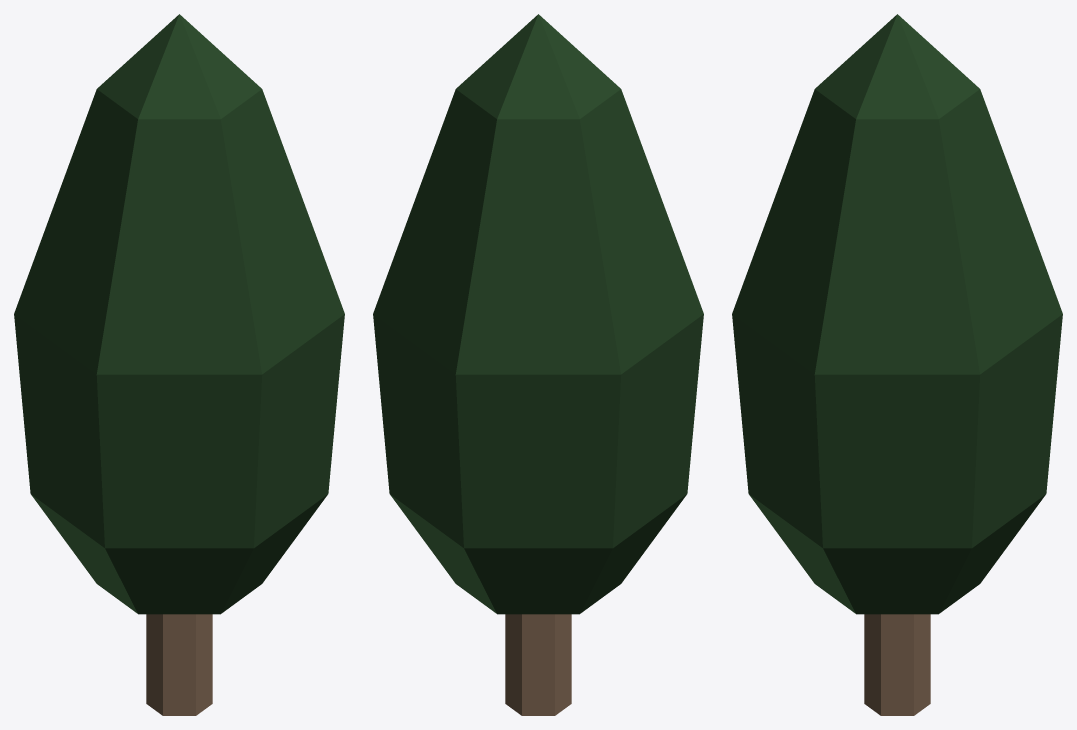
The model's file is Hilly_Prop_Tree_Cedar_1.glb.
3 renders of one model, left to right at view 1: azimuth 30°, elevation 25°; view 2: azimuth 150°, elevation 25°; view 3: azimuth 270°, elevation 25°, orthographic.
Visible parts, largest first — view 1: Hilly_Prop_Tree_Cedar_1; view 2: Hilly_Prop_Tree_Cedar_1; view 3: Hilly_Prop_Tree_Cedar_1.
Boxes of the visible parts, <box> form: Hilly_Prop_Tree_Cedar_1: <box>14,14,344,715</box>; Hilly_Prop_Tree_Cedar_1: <box>373,14,703,715</box>; Hilly_Prop_Tree_Cedar_1: <box>732,14,1062,715</box>.
Bounding box in the file's own units: 0.866 × 2.3 × 1.
